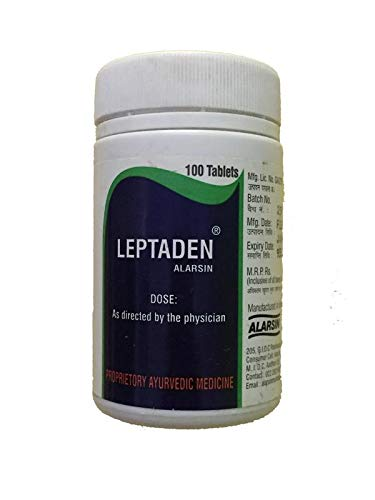LEPTADEN: (118, 229, 213, 259)
